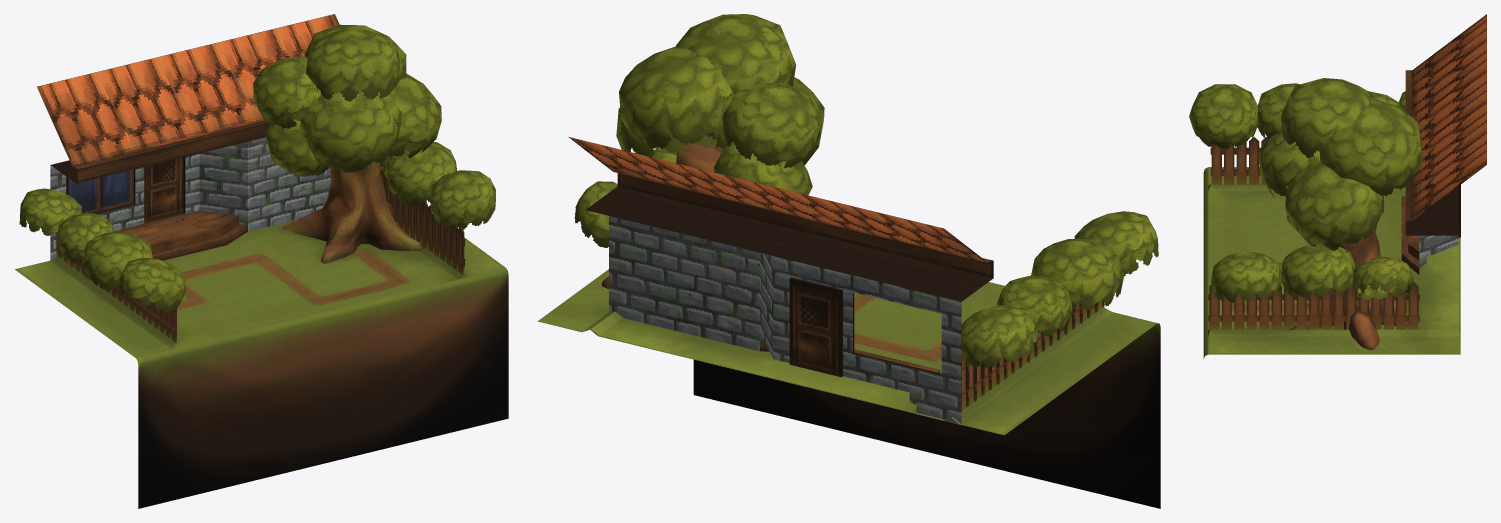
The model's file is Level_01.glb.
The picture shows the model from 3 angles, left to right: view 1: azimuth 30°, elevation 25°; view 2: azimuth 150°, elevation 25°; view 3: azimuth 270°, elevation 25°; orthographic projection. The views are drawn at different scales.
Visible parts, largest first — view 1: Underground, Ground, Roof, HouseWall, HouseDetails, Tree, Bush.007, Bush.011, Bush.009, Bush.005, Bush.010, Bush.006 (+8 smaller); view 2: Underground, HouseWall, Roof, Ground, Bush.008, Bush.009, Bush.011, HouseDetails, Bush.002, Bush.004, Bush.001, Bush.003 (+5 smaller); view 3: Ground, Roof, FenceR, Bush.008, Bush.010, Bush.011, Bush.001, Bush.006, Bush.005, Tree, Bush, Bush.007 (+5 smaller).
Part boxes in pixels (bbox=[...]): Underground: bbox=[136, 268, 508, 508]; Ground: bbox=[15, 219, 505, 358]; Roof: bbox=[37, 14, 339, 183]; HouseWall: bbox=[50, 137, 330, 261]; HouseDetails: bbox=[66, 157, 247, 260]; Tree: bbox=[282, 161, 425, 263]; Bush.007: bbox=[299, 91, 402, 172]; Bush.011: bbox=[306, 29, 400, 101]; Bush.009: bbox=[253, 56, 320, 129]; Bush.005: bbox=[430, 170, 495, 229]; Bush.010: bbox=[388, 73, 441, 158]; Bush.006: bbox=[386, 142, 457, 206]; Underground: bbox=[693, 323, 1160, 508]; HouseWall: bbox=[609, 216, 961, 425]; Roof: bbox=[569, 137, 993, 301]; Ground: bbox=[537, 269, 1157, 435]; Bush.008: bbox=[619, 46, 734, 149]; Bush.009: bbox=[723, 82, 821, 168]; Bush.011: bbox=[676, 14, 795, 94]; HouseDetails: bbox=[760, 277, 941, 377]; Bush.002: bbox=[1031, 238, 1124, 310]; Bush.004: bbox=[961, 305, 1037, 367]; Bush.001: bbox=[1074, 211, 1158, 276]; Bush.003: bbox=[997, 275, 1072, 336]; Ground: bbox=[1208, 167, 1460, 354]; Roof: bbox=[1405, 14, 1486, 235]; FenceR: bbox=[1208, 282, 1419, 329]; Bush.008: bbox=[1319, 100, 1422, 196]; Bush.010: bbox=[1285, 160, 1384, 250]; Bush.011: bbox=[1281, 78, 1375, 158]; Bush.001: bbox=[1189, 84, 1257, 149]; Bush.006: bbox=[1281, 244, 1356, 296]; Bush.005: bbox=[1211, 251, 1281, 302]; Tree: bbox=[1288, 224, 1408, 350]; Bush: bbox=[1352, 256, 1413, 300]; Bush.007: bbox=[1259, 130, 1320, 198].
Bounding box in the file's own units: 488 × 441 × 315.
8 materials, 8 textured.
